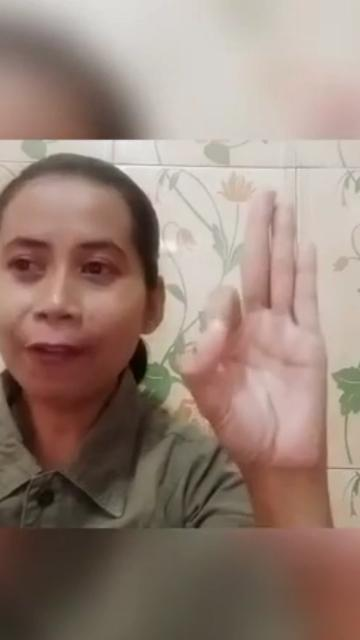F: (180, 188, 332, 472)
